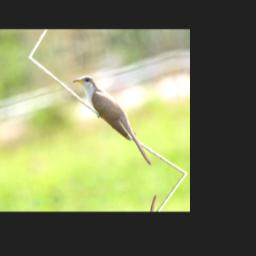Cuckoo: (71, 64, 154, 181)
